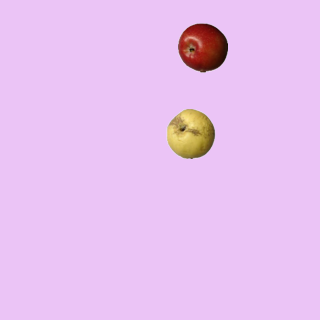Apple Braeburn: (177, 22, 227, 72)
Apple Golden 1: (165, 108, 215, 158)
